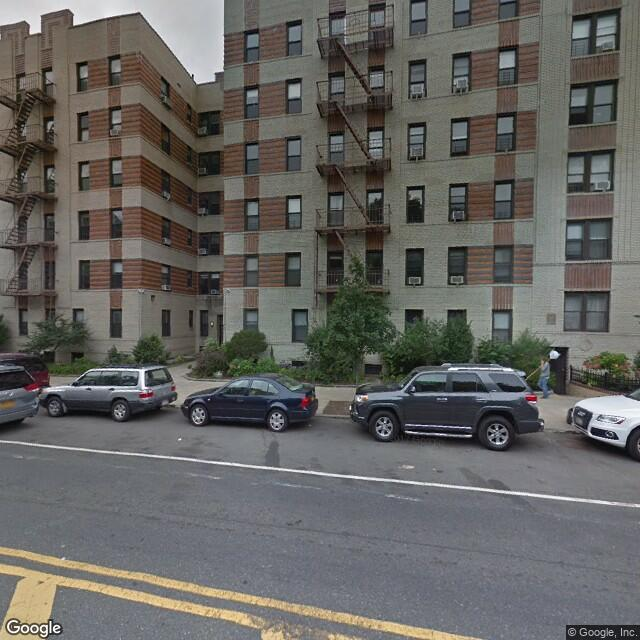litter: (395, 463, 417, 470), (177, 437, 182, 440)
